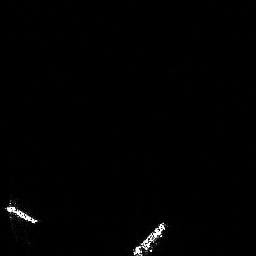ship: (130, 219, 168, 256), (3, 195, 41, 227)
